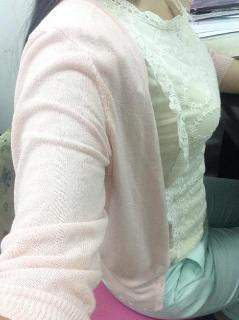long sleeve outwear: (0, 0, 235, 319)
short sleeve top: (20, 0, 221, 269)
trousers: (100, 167, 239, 319)
